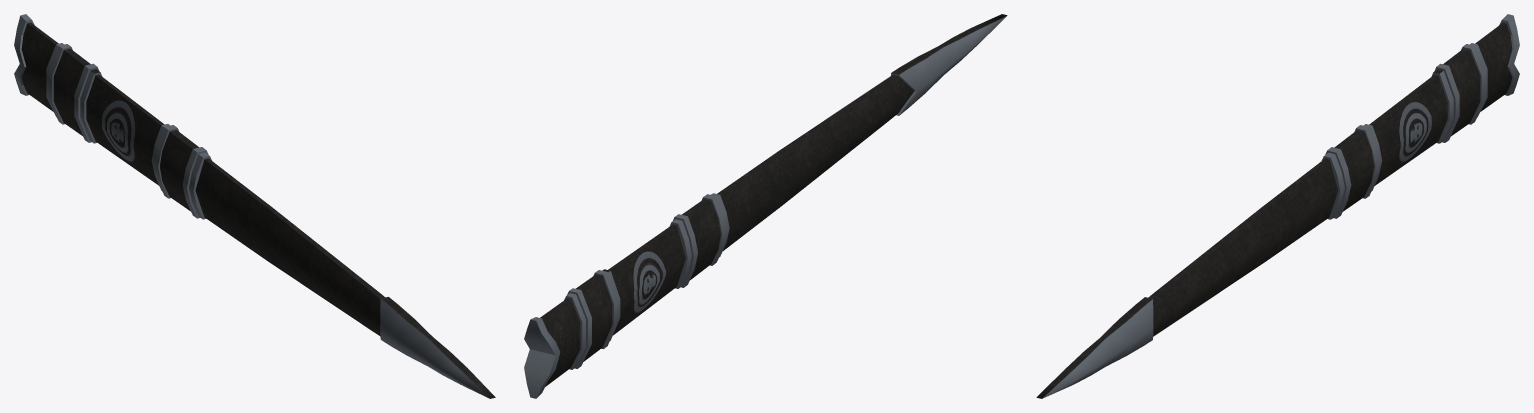
The model's file is sword cover.fbx.
3 renders of one model, left to right at view 1: azimuth 30°, elevation 25°; view 2: azimuth 150°, elevation 25°; view 3: azimuth 330°, elevation 25°, orthographic.
Parts seen in each view (by area): view 1: Object004; view 2: Object004; view 3: Object004.
Boxes of the visible parts, x1,y1,x2,y2 form: Object004: (14,14,495,398); Object004: (524,14,1007,398); Object004: (1036,14,1519,398).
Size of the model in its own units: 3.32 by 8.29 by 90.67.
